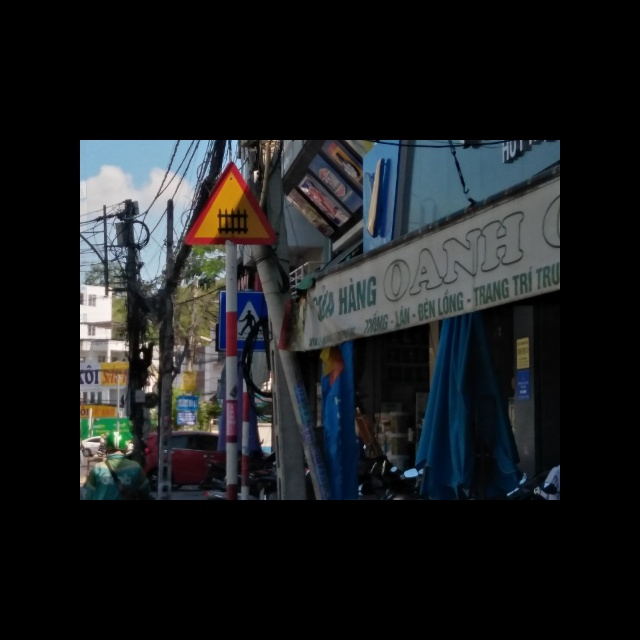Giao nhau với đường sắt có rào chắn: (181, 163, 278, 247)
